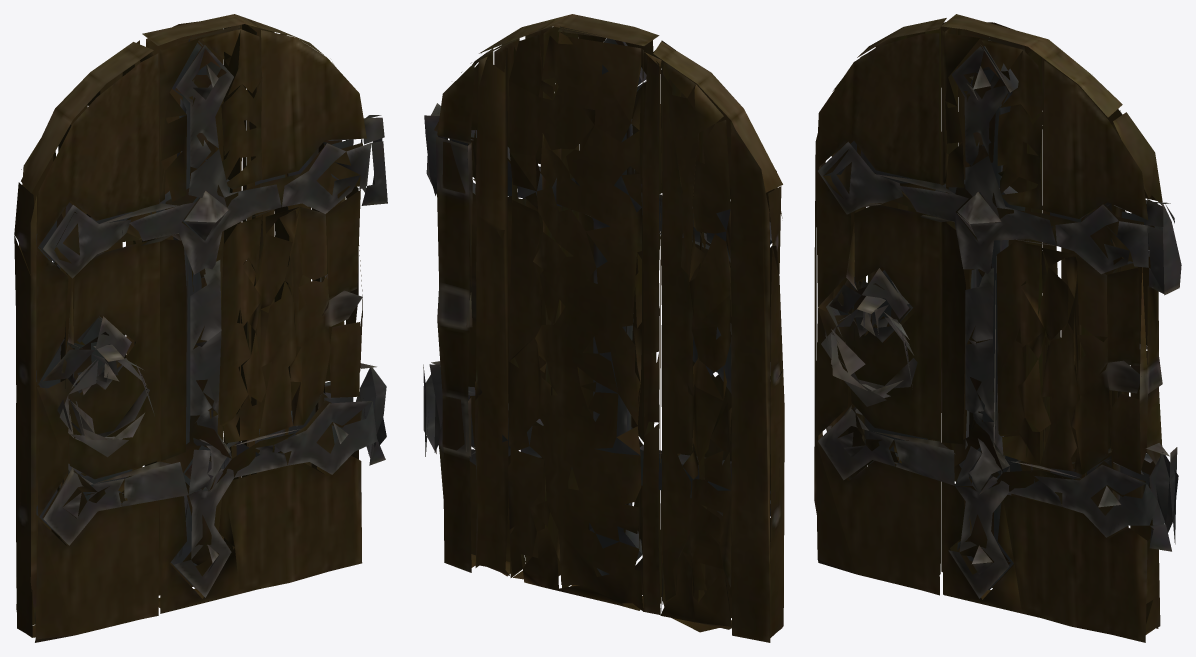
The model's file is pro_crypt_door.glb.
3 renders of one model, left to right at view 1: azimuth 30°, elevation 25°; view 2: azimuth 150°, elevation 25°; view 3: azimuth 330°, elevation 25°, orthographic.
Parts seen in each view (by area): view 1: MetricPlacement; view 2: MetricPlacement; view 3: MetricPlacement.
Boxes of the visible parts, <box> form: MetricPlacement: <box>14,14,387,642</box>; MetricPlacement: <box>423,14,784,642</box>; MetricPlacement: <box>814,14,1181,642</box>.
Size of the model in its own units: 1.83 by 2.8 by 0.3361.
1 material, 1 textured.
